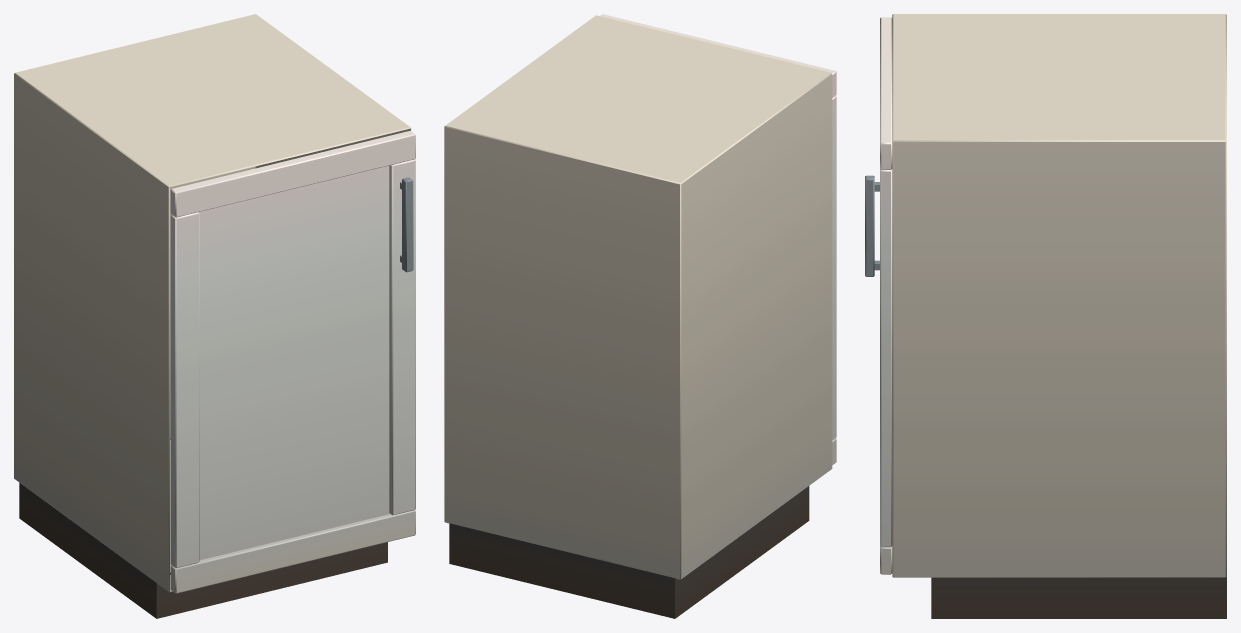
The model's file is kitchen_cabinet.glb.
The picture shows the model from 3 angles, left to right: view 1: azimuth 30°, elevation 25°; view 2: azimuth 150°, elevation 25°; view 3: azimuth 270°, elevation 25°; orthographic projection. The views are drawn at different scales.
Visible parts, largest first — view 1: SM_KitCab_Base_Door_05; view 2: SM_KitCab_Base_Door_05; view 3: SM_KitCab_Base_Door_05.
Boxes of the visible parts, bbox=[...] form: SM_KitCab_Base_Door_05: bbox=[14, 14, 415, 618]; SM_KitCab_Base_Door_05: bbox=[444, 14, 836, 618]; SM_KitCab_Base_Door_05: bbox=[865, 14, 1226, 618].
Bounding box in the file's own units: 0.5 × 0.88 × 0.6.
Materials: 1 (1 with a texture image).
